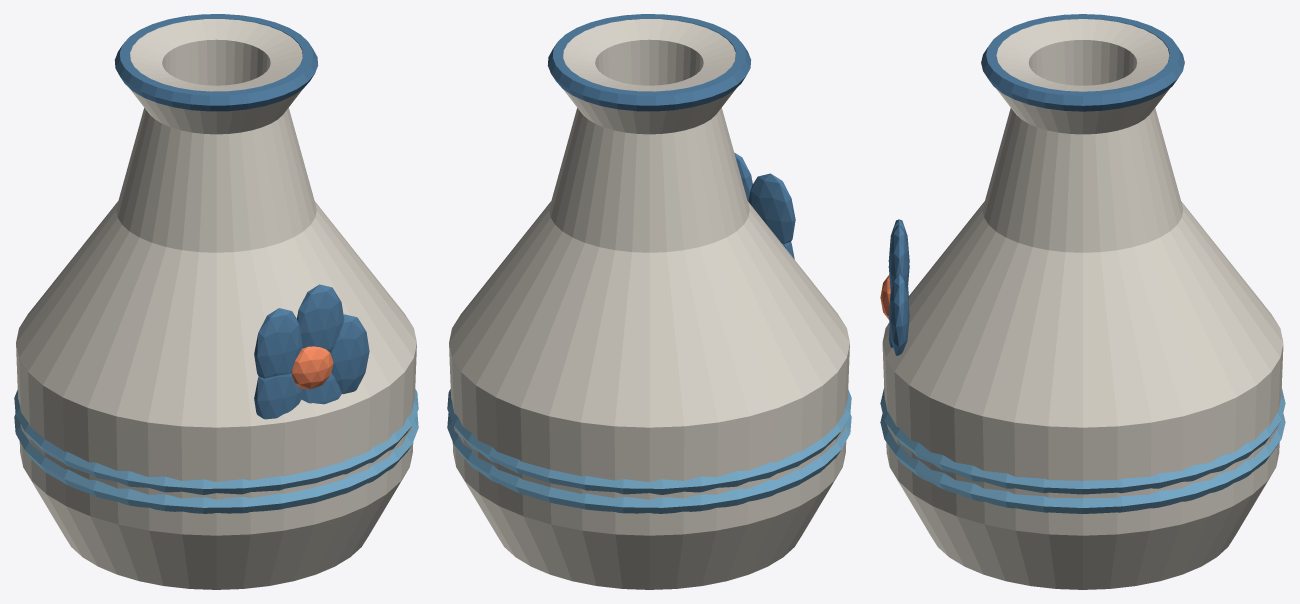
File: kitchen_tokkuri.glb
3 views of the same model, side by side, from view 1: azimuth 30°, elevation 25°; view 2: azimuth 150°, elevation 25°; view 3: azimuth 270°, elevation 25° (orthographic).
Parts seen in each view (by area): view 1: Tokkuri flared neck, Sake bottle cobalt wave, Indigo rim, Sake bottle cobalt wave.001, Sake blossom_petal02, Sake blossom_petal01, Sake blossom_petal00, Sake blossom_petal03, Sake blossom_center, Sake blossom_petal04; view 2: Tokkuri flared neck, Sake bottle cobalt wave, Indigo rim, Sake bottle cobalt wave.001, Sake blossom_petal02; view 3: Tokkuri flared neck, Sake bottle cobalt wave, Indigo rim, Sake bottle cobalt wave.001, Sake blossom_petal00, Sake blossom_petal01.
Part boxes in pixels (left/top/right/bottom): Tokkuri flared neck: left=16, top=19, right=416, bottom=589; Sake bottle cobalt wave: left=14, top=413, right=418, bottom=513; Indigo rim: left=114, top=14, right=318, bottom=111; Sake bottle cobalt wave.001: left=14, top=389, right=418, bottom=494; Sake blossom_petal02: left=254, top=308, right=302, bottom=378; Sake blossom_petal01: left=297, top=284, right=344, bottom=353; Sake blossom_petal00: left=330, top=314, right=369, bottom=394; Sake blossom_petal03: left=254, top=373, right=302, bottom=419; Sake blossom_center: left=291, top=346, right=333, bottom=389; Sake blossom_petal04: left=301, top=372, right=341, bottom=404; Tokkuri flared neck: left=449, top=19, right=849, bottom=589; Sake bottle cobalt wave: left=447, top=413, right=851, bottom=513; Indigo rim: left=547, top=14, right=751, bottom=111; Sake bottle cobalt wave.001: left=447, top=389, right=851, bottom=494; Sake blossom_petal02: left=748, top=173, right=795, bottom=243; Tokkuri flared neck: left=882, top=19, right=1283, bottom=589; Sake bottle cobalt wave: left=880, top=414, right=1285, bottom=513; Indigo rim: left=981, top=14, right=1184, bottom=111; Sake bottle cobalt wave.001: left=880, top=387, right=1285, bottom=494; Sake blossom_petal00: left=888, top=273, right=909, bottom=355; Sake blossom_petal01: left=888, top=225, right=909, bottom=289.
Size of the model in its own units: 1.48 by 1.95 by 1.48.
